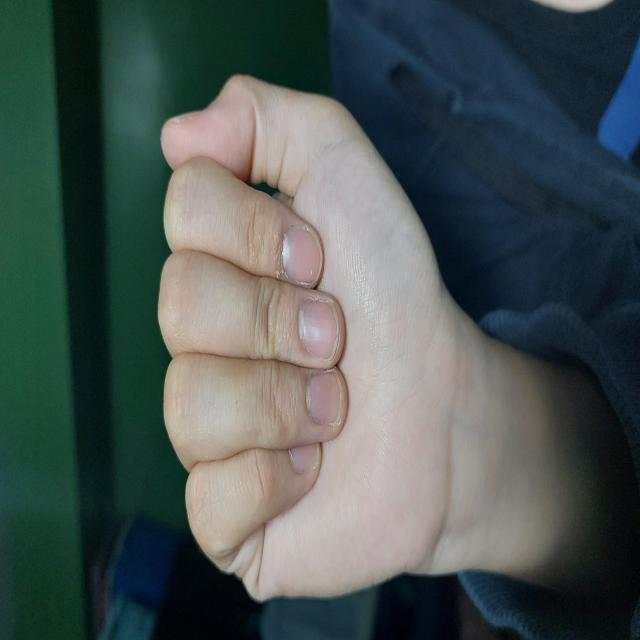A: (37, 157, 566, 459)
